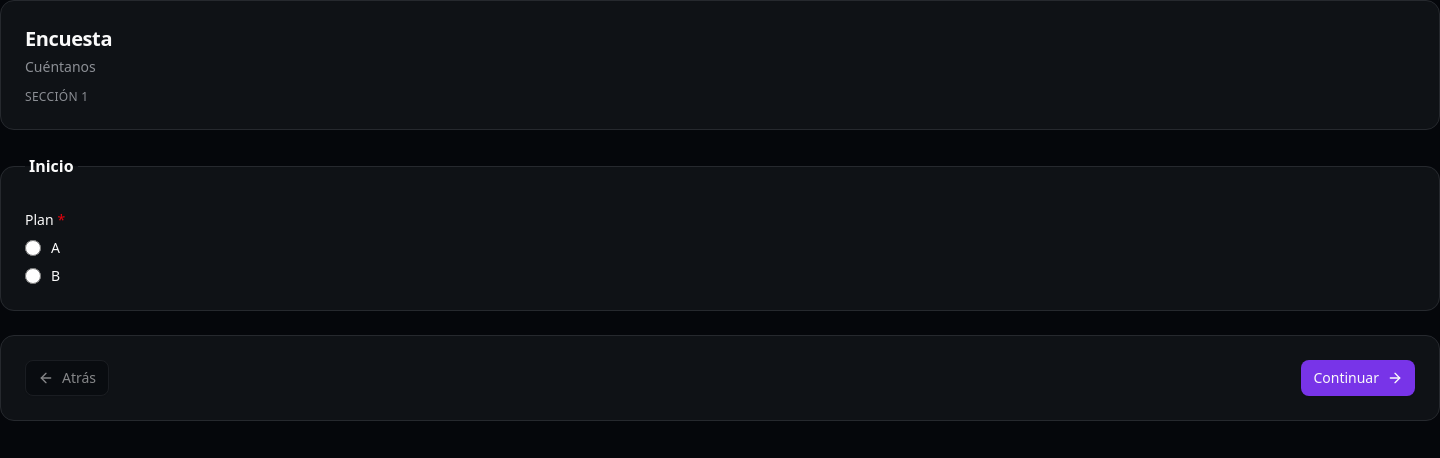
it: RenderizadorFormulario con lógica IF › la preview permite navegar con Continuar
Click the radio button labelled "B". click: {"x": 33, "y": 276}
box: x1=25 y1=268 x2=41 y2=284
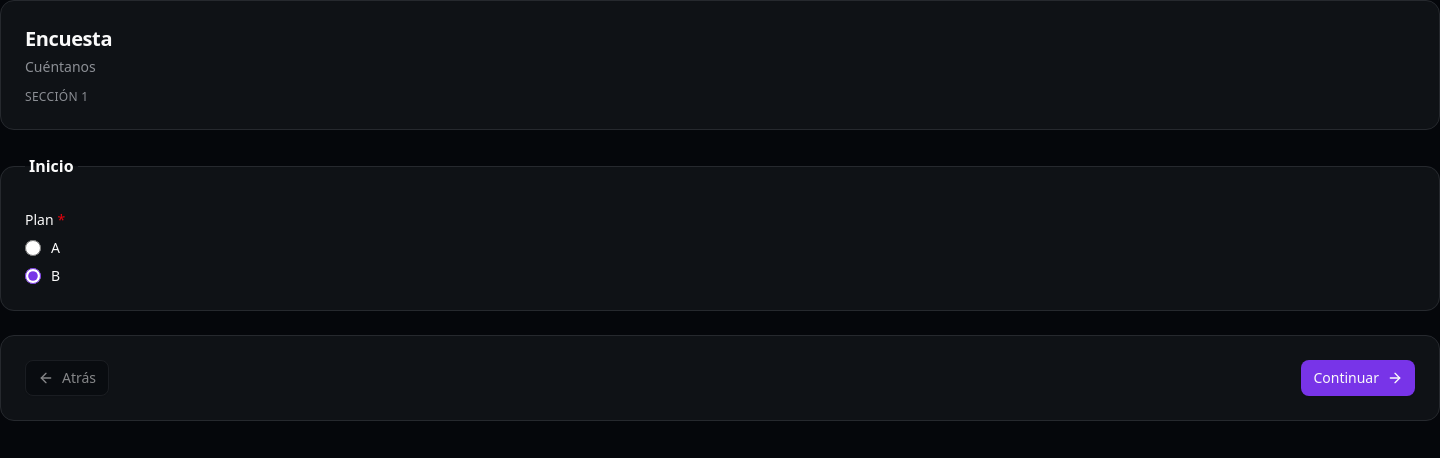
Click the button "Continuar". click: {"x": 1358, "y": 378}
box: x1=1301 y1=360 x2=1415 y2=396
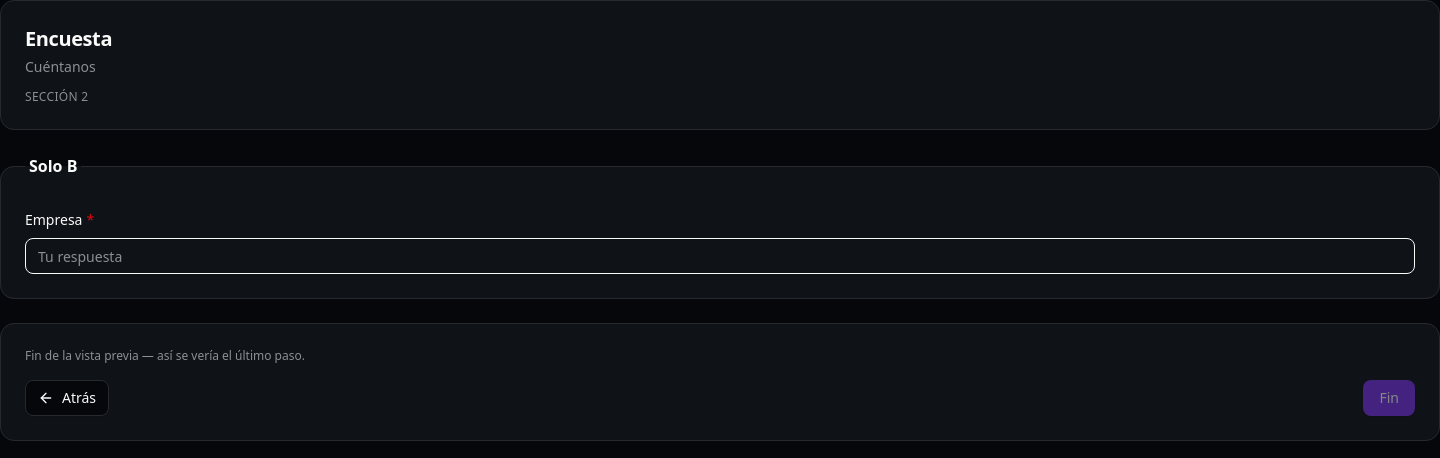
Expected: the text "Solo B" is shown, x1=25 y1=154 x2=81 y2=178
